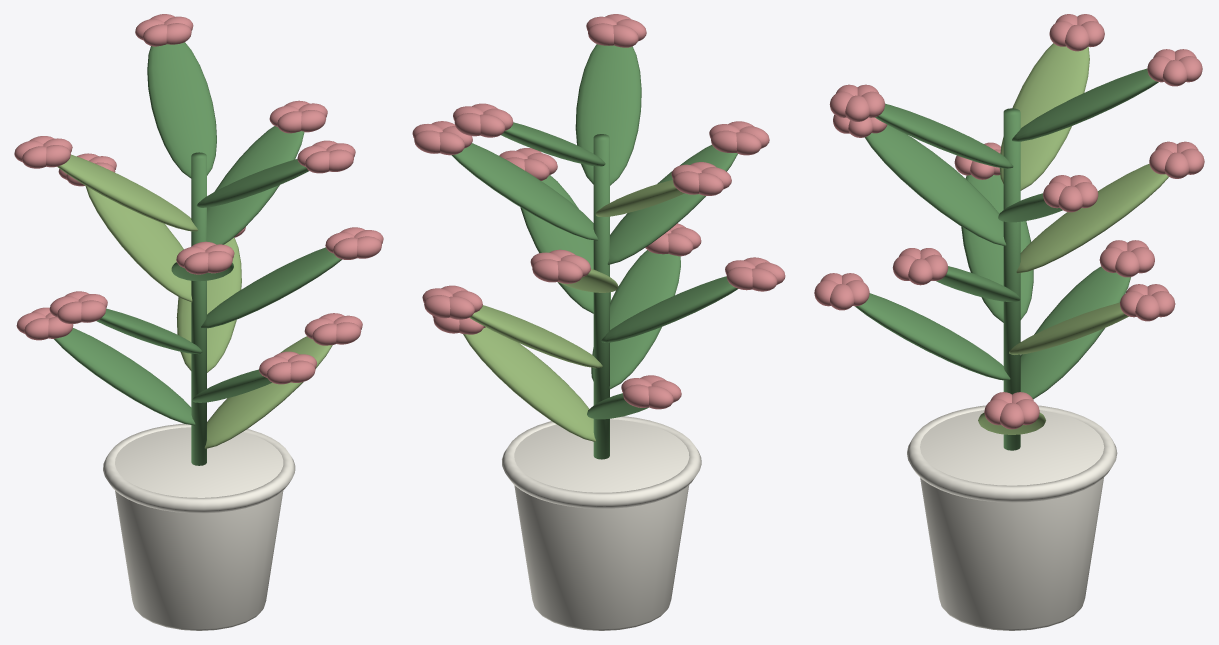
The model's file is atelier-flowering-plant.glb.
The picture shows the model from 3 angles, left to right: view 1: azimuth 30°, elevation 25°; view 2: azimuth 150°, elevation 25°; view 3: azimuth 270°, elevation 25°; orthographic projection. The views are drawn at different scales.
Parts seen in each view (by area): view 1: ceramic.048, leaf.012, flower, leafLight.009; view 2: leaf.012, ceramic.048, flower, leafLight.009; view 3: ceramic.048, leaf.012, flower, leafLight.009.
Boxes of the visible parts, x1=… form: ceramic.048: x1=103, y1=423, x2=295, y2=630; leaf.012: x1=54, y1=42, x2=341, y2=465; flower: x1=14, y1=14, x2=383, y2=384; leafLight.009: x1=57, y1=154, x2=332, y2=448; leaf.012: x1=451, y1=44, x2=738, y2=459; ceramic.048: x1=502, y1=416, x2=701, y2=630; flower: x1=412, y1=14, x2=785, y2=409; leafLight.009: x1=463, y1=180, x2=684, y2=441; ceramic.048: x1=907, y1=405, x2=1117, y2=630; leaf.012: x1=855, y1=68, x2=1158, y2=450; flower: x1=814, y1=14, x2=1204, y2=429; leafLight.009: x1=978, y1=43, x2=1168, y2=434.
Size of the model in its own units: 0.7106 by 1.1 by 0.6861.
